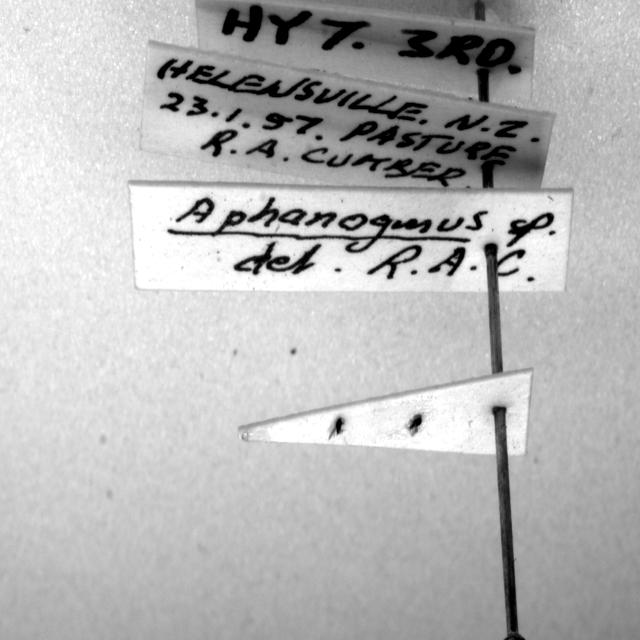hand_label: (140, 41, 554, 189), (128, 182, 572, 292)
